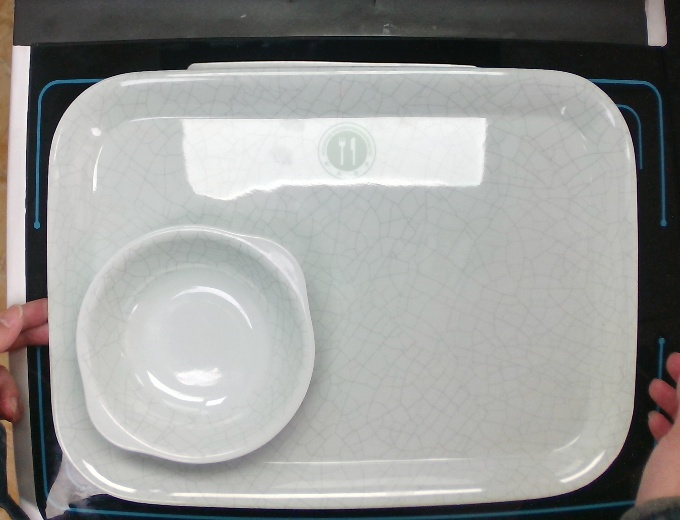JYsf-Shuang_Er_Wan: (72, 221, 318, 468)
